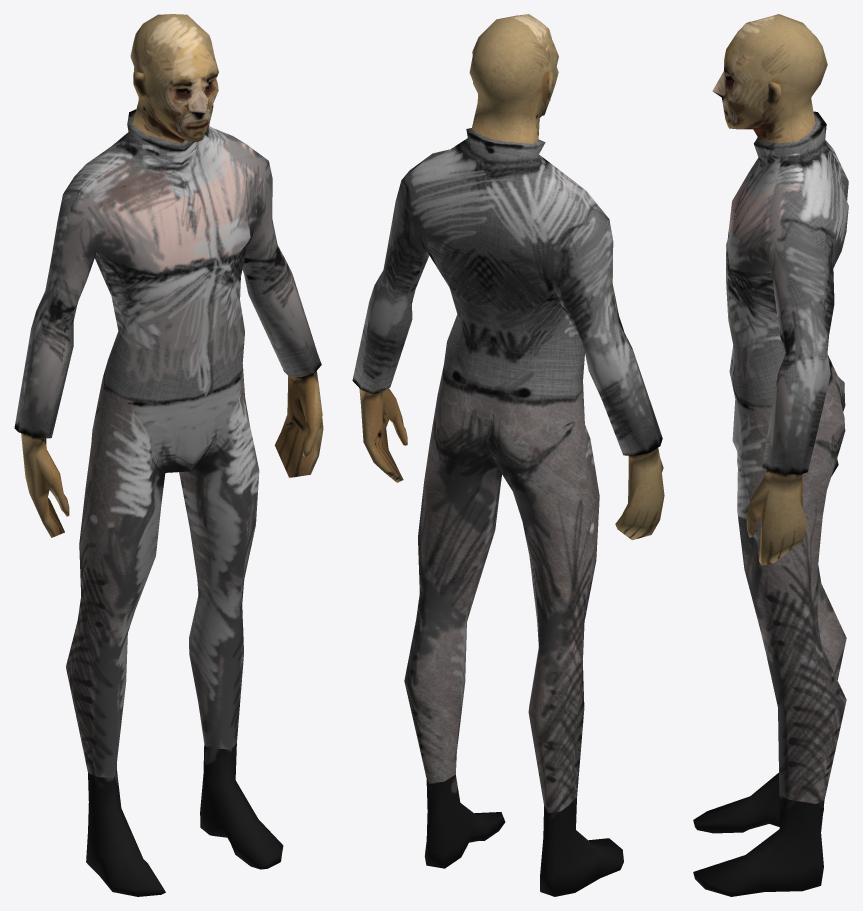
The model's file is Scientist.obj.
3 renders of one model, left to right at view 1: azimuth 30°, elevation 25°; view 2: azimuth 150°, elevation 25°; view 3: azimuth 270°, elevation 25°, orthographic.
Parts seen in each view (by area): view 1: Plane; view 2: Plane; view 3: Plane.
Part boxes in pixels (box(x1,y1,x2,y2)): Plane: box(14, 14, 323, 896); Plane: box(352, 14, 664, 896); Plane: box(693, 14, 848, 896).
Size of the model in its own units: 0.7494 by 2 by 0.3363.
